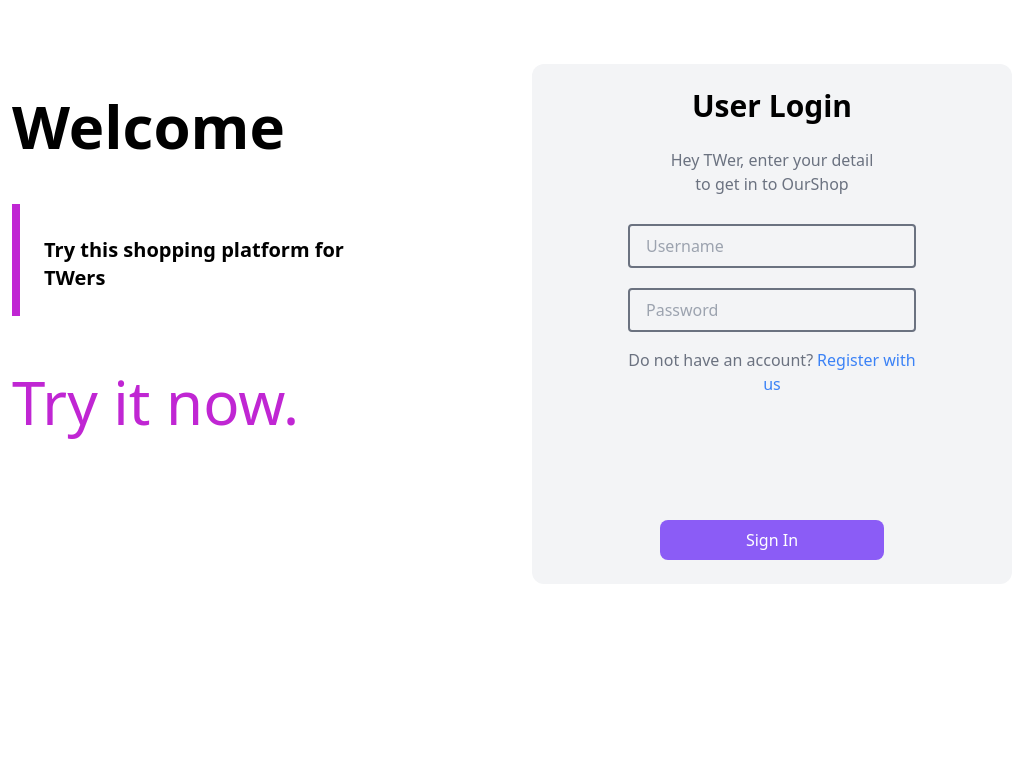
Test case: display login page › should show error tips when username is missing
The image size is (1024, 768).
In the password field with test id "password": x=772, y=310 [628,288,916,332], type "111"
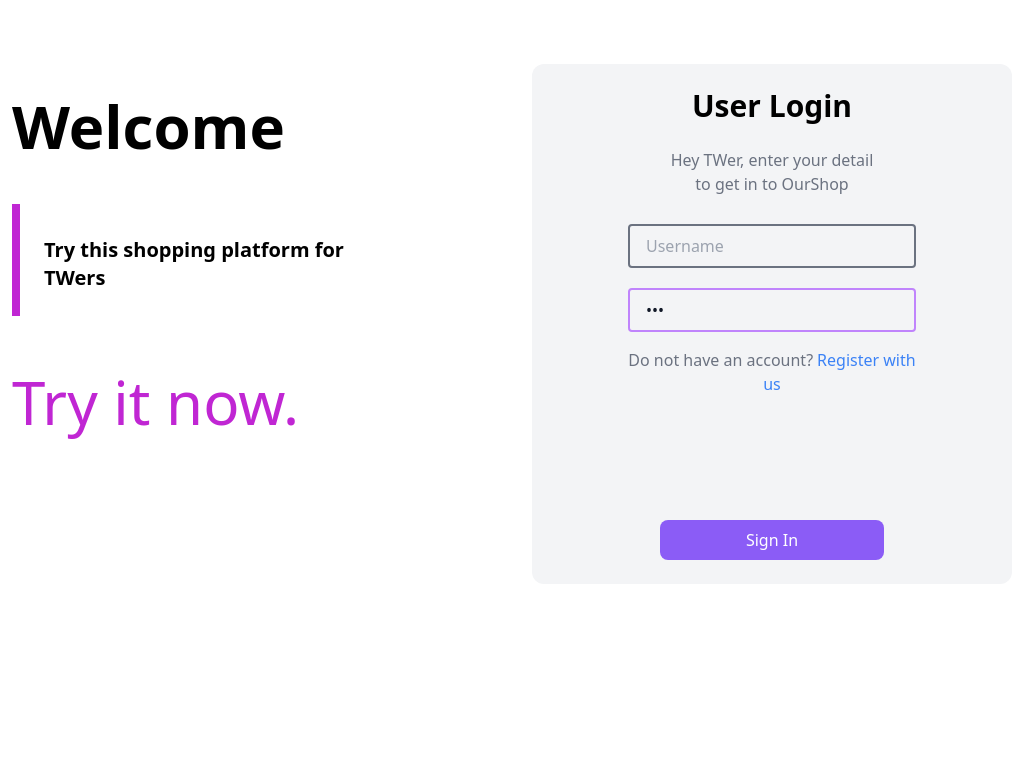
Click the button with test id "login-btn": x=772, y=540 [660,520,884,560]
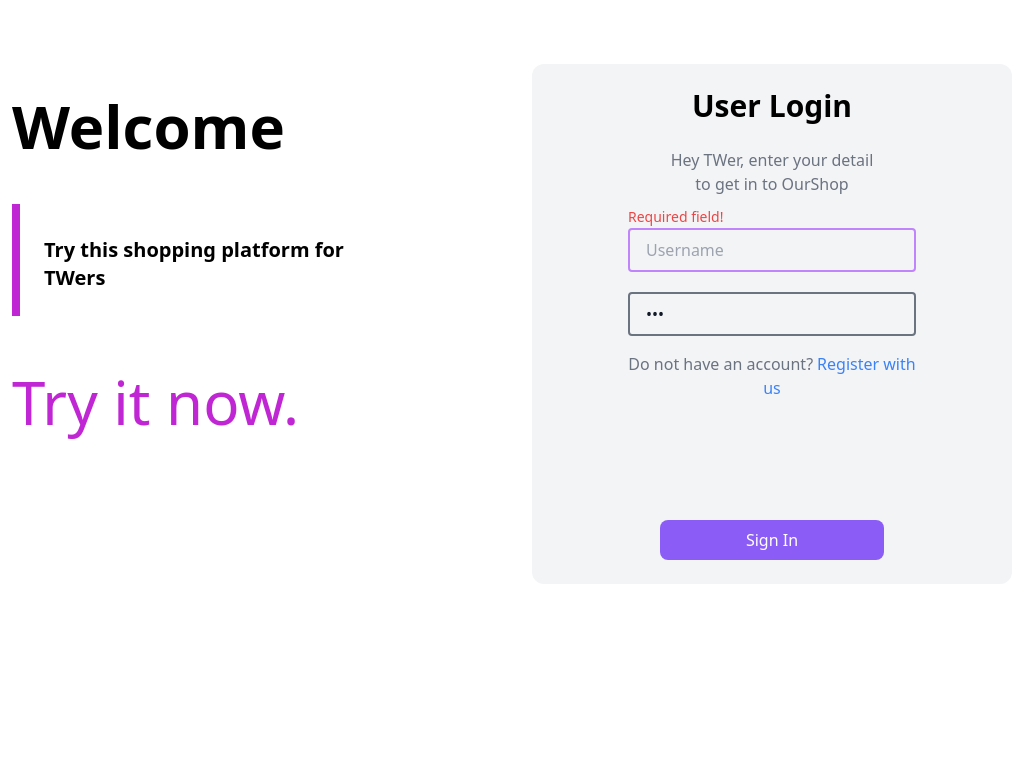
expect the message "Required field!" is shown: met, box [628,207,724,226]
